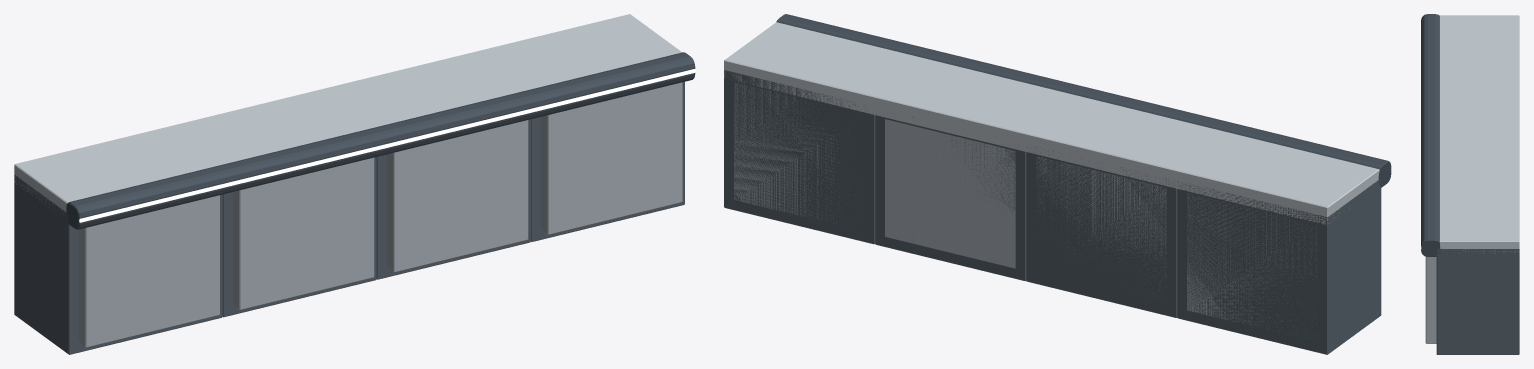
File: Terrain_TopRun4.gltf
The picture shows the model from 3 angles, left to right: view 1: azimuth 30°, elevation 25°; view 2: azimuth 150°, elevation 25°; view 3: azimuth 270°, elevation 25°; orthographic projection. The views are drawn at different scales.
Parts seen in each view (by area): view 1: Terrain_TopRun4_baked; view 2: Terrain_TopRun4_baked; view 3: Terrain_TopRun4_baked.
Boxes of the visible parts, box(x1,y1,x2,y2) form: Terrain_TopRun4_baked: box(14, 14, 695, 354); Terrain_TopRun4_baked: box(724, 14, 1391, 354); Terrain_TopRun4_baked: box(1420, 14, 1519, 354).
Bounding box in the file's own units: 4 × 0.9495 × 0.74.
